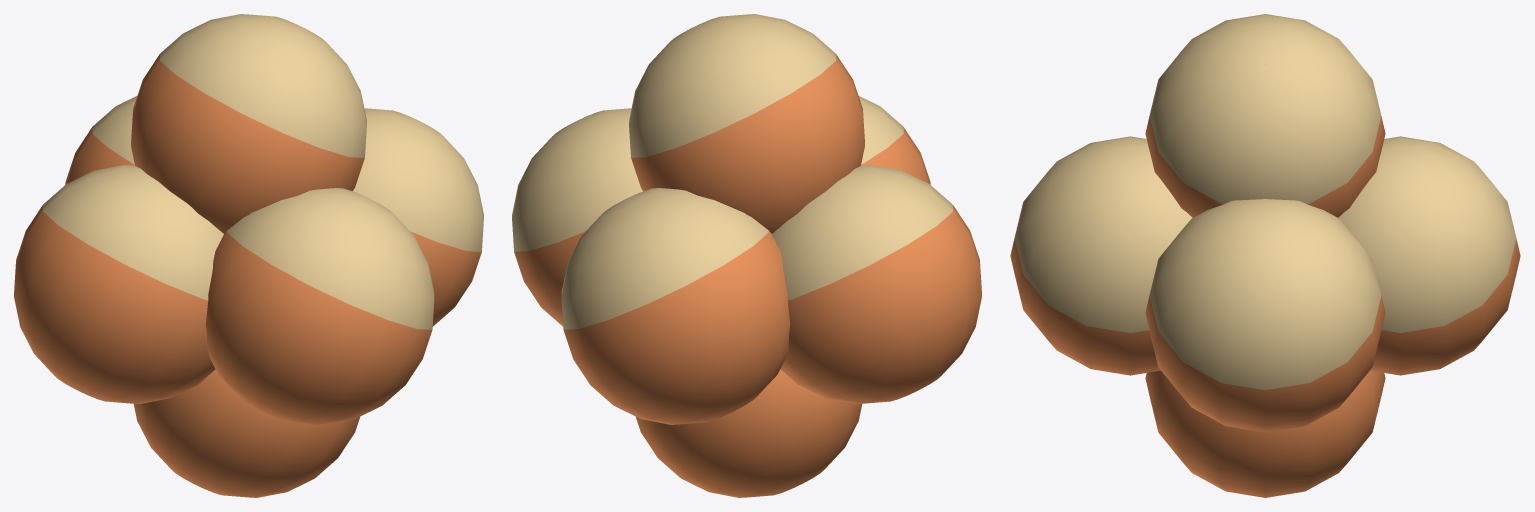
Rendered from DustEffect.fbx.
The picture shows the model from 3 angles, left to right: view 1: azimuth 30°, elevation 25°; view 2: azimuth 150°, elevation 25°; view 3: azimuth 270°, elevation 25°; orthographic projection.
Visible parts, largest first — view 1: Sphere; view 2: Sphere; view 3: Sphere.
Part boxes in pixels (x1,y1,x2,y2): Sphere: (14, 14, 483, 497); Sphere: (512, 14, 981, 497); Sphere: (1010, 14, 1520, 497).
Bounding box in the file's own units: 50.03 × 50.03 × 50.03.
